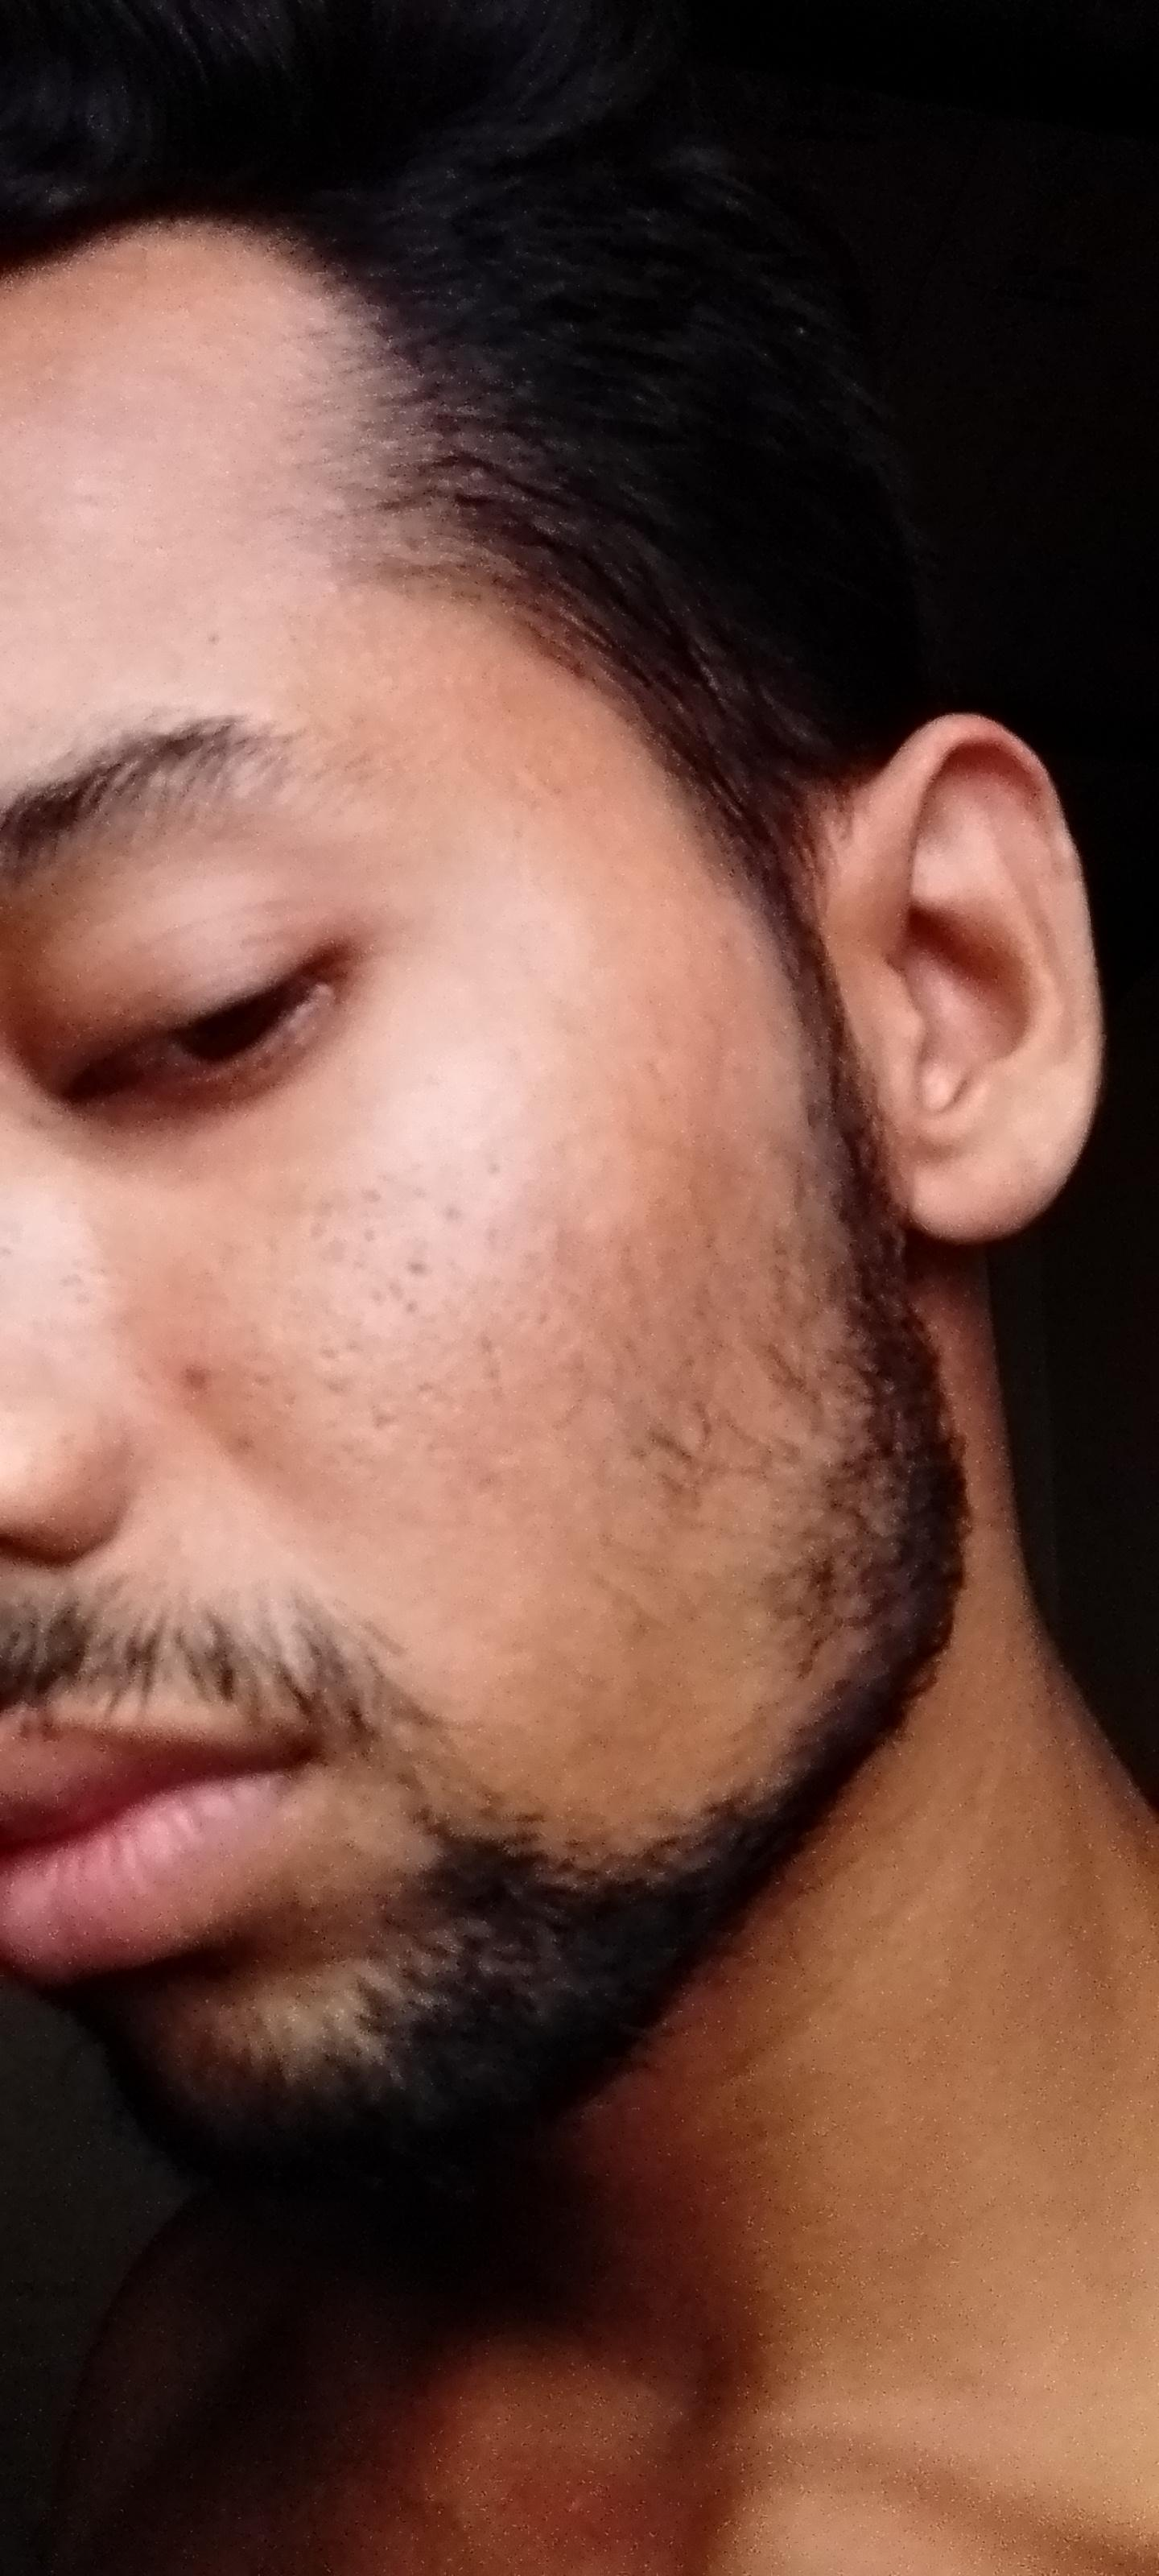Acne: (222, 1436, 287, 1487), (405, 1244, 460, 1301), (161, 1364, 225, 1410), (435, 1188, 473, 1226), (471, 1158, 514, 1189)
Englarged-Pores: (332, 1370, 558, 1513), (212, 1255, 384, 1396), (473, 1219, 624, 1365), (276, 1166, 394, 1250)
